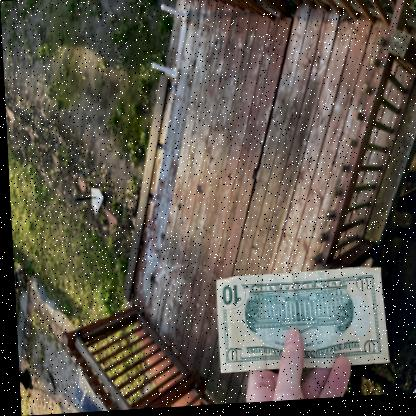ten-back: (213, 270, 384, 374)
